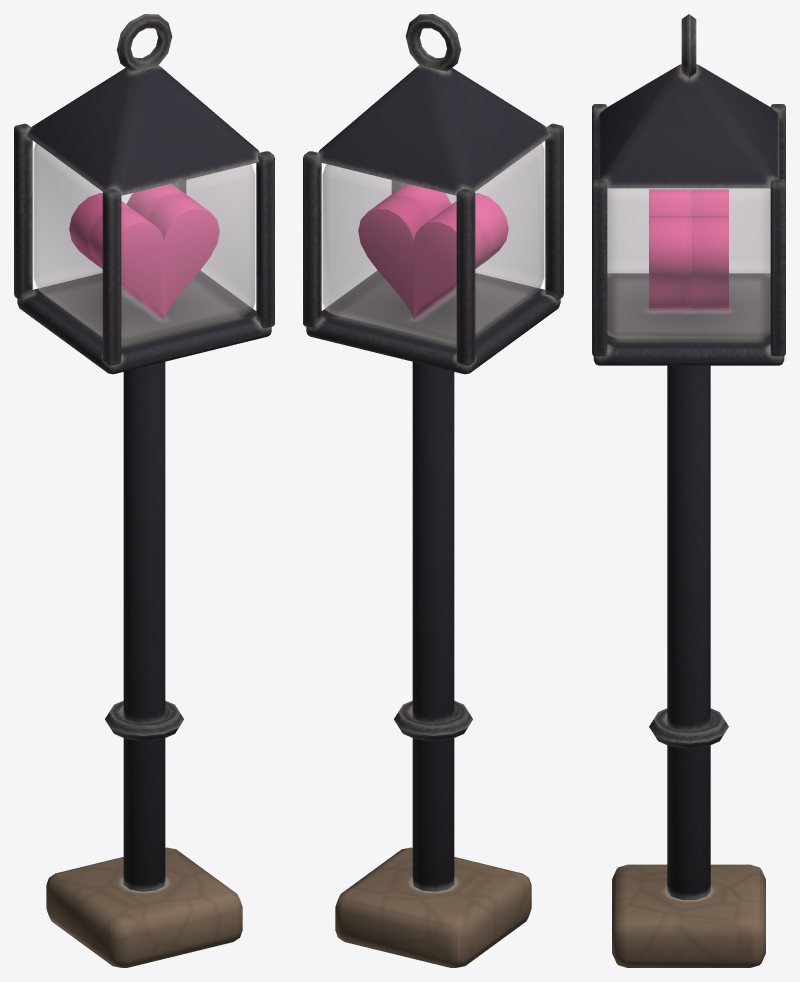
Rendered from en_heart_lantern.fbx.
The picture shows the model from 3 angles, left to right: view 1: azimuth 30°, elevation 25°; view 2: azimuth 150°, elevation 25°; view 3: azimuth 270°, elevation 25°; orthographic projection.
Parts seen in each view (by area): view 1: en_heart_lantern; view 2: en_heart_lantern; view 3: en_heart_lantern.
Part boxes in pixels (x1,y1,x2,y2): en_heart_lantern: (14, 14, 274, 967); en_heart_lantern: (303, 14, 563, 967); en_heart_lantern: (592, 14, 785, 967).
Bounding box in the file's own units: 0.63 × 3.32 × 0.63.
4 materials, 4 textured.
